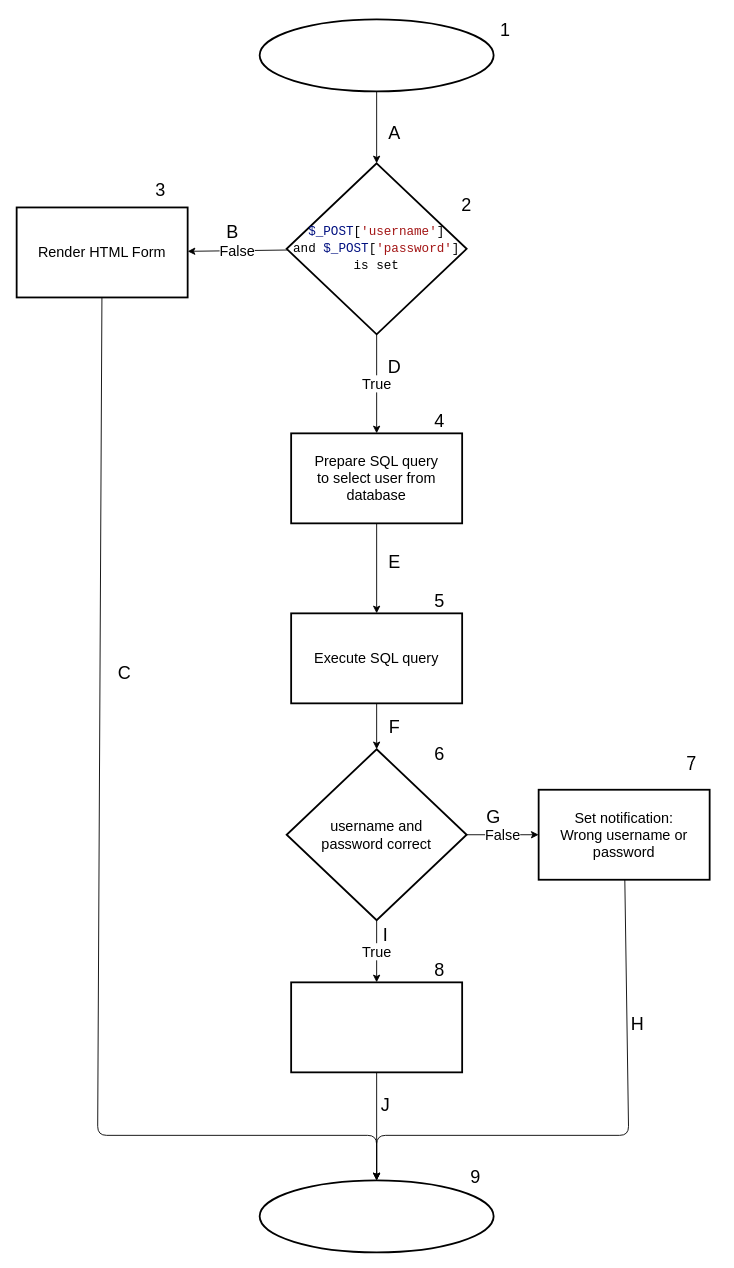
Image size: 734x1268. Some labels were removed from this diagram. The shapes that lost their labels are listed below. From the top down, each one's centre as x and y in pixels, then its label:
At (x=376, y=55): "Start".
At (x=376, y=1027): "Set session, redirect to index.php".
At (x=376, y=1216): "End".
